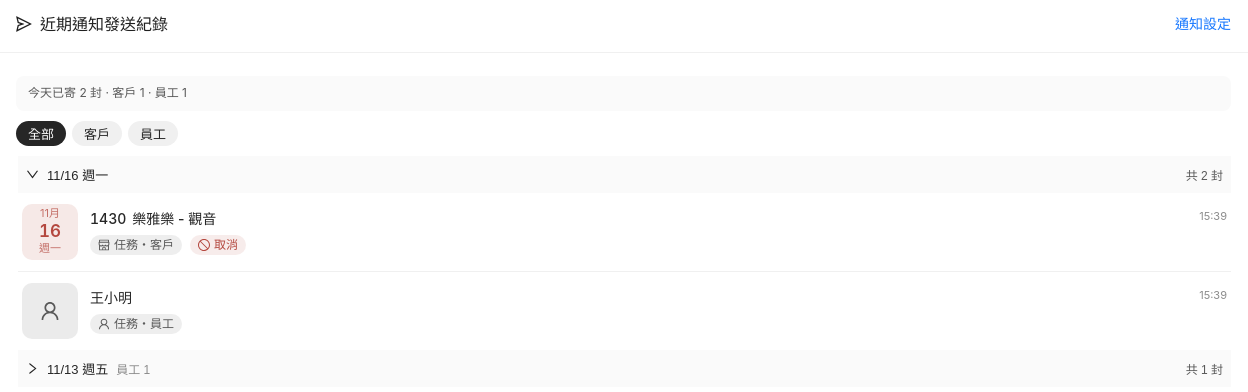
Test: SendLogCard 任務資訊與分組 › 顯示任務日期塊、新增修改取消、任務時間；可篩選類別；較早的日期預設收合
Check: the number of buttons with test id "send-log-row" is 2, box [18,193,1231,272]; [18,272,1231,350]
Check: the text "取消" is shown, box [190,235,246,255]
Click the button "員工": click(153, 133) [128,121,178,146]
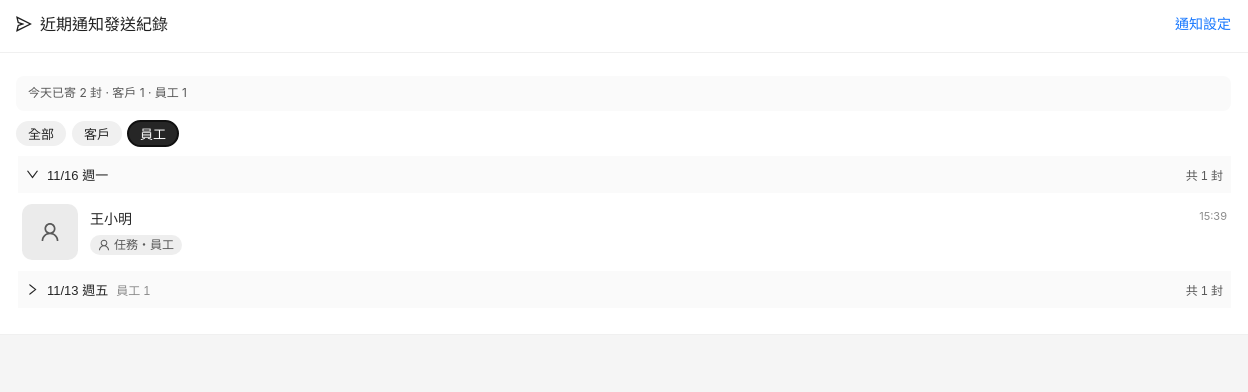
Check: the number of elements with test id "send-log-group" is 2, box [18,156,1231,271]; [18,271,1231,308]
Check: the number of buttons with test id "send-log-row" is 1, box [18,193,1231,271]
